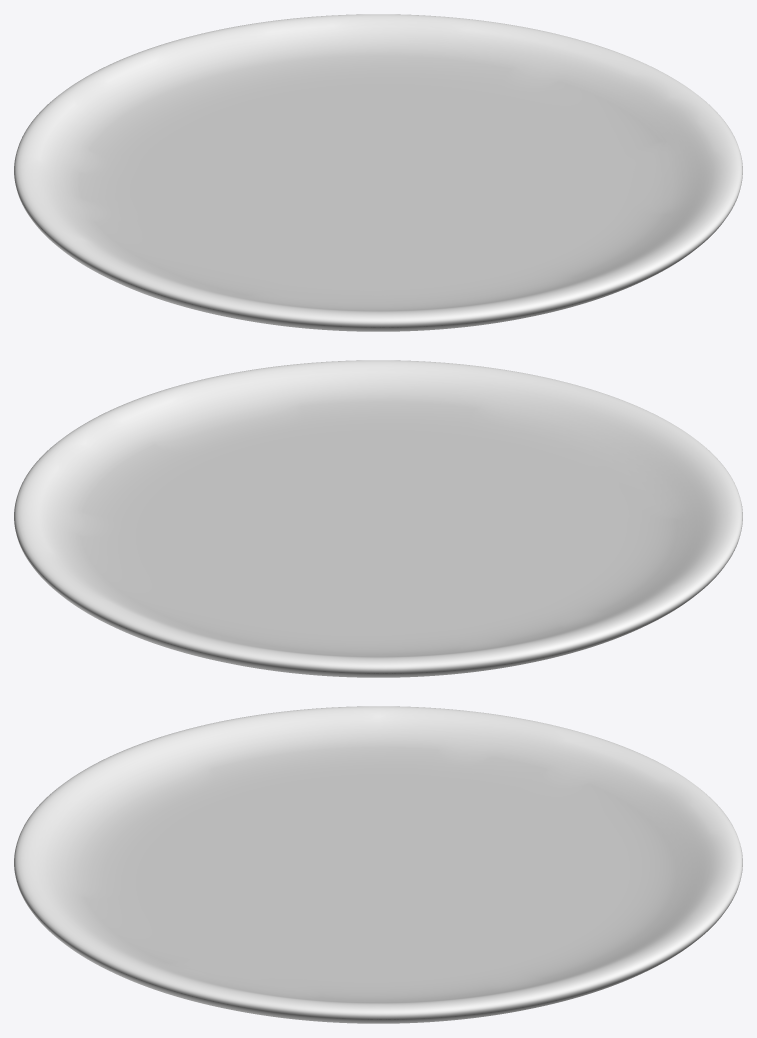
Rendered from HH_Plate.fbx.
The picture shows the model from 3 angles, top to bottom: view 1: azimuth 30°, elevation 25°; view 2: azimuth 150°, elevation 25°; view 3: azimuth 270°, elevation 25°; orthographic projection.
Visible parts, largest first — view 1: Plate; view 2: Plate; view 3: Plate.
Boxes of the visible parts, left/top/right/bottom form: Plate: left=14, top=14, right=742, bottom=331; Plate: left=14, top=360, right=742, bottom=677; Plate: left=14, top=706, right=742, bottom=1023.
Size of the model in its own units: 19.21 by 1.45 by 19.21.
Materials: 1 (1 with a texture image).
